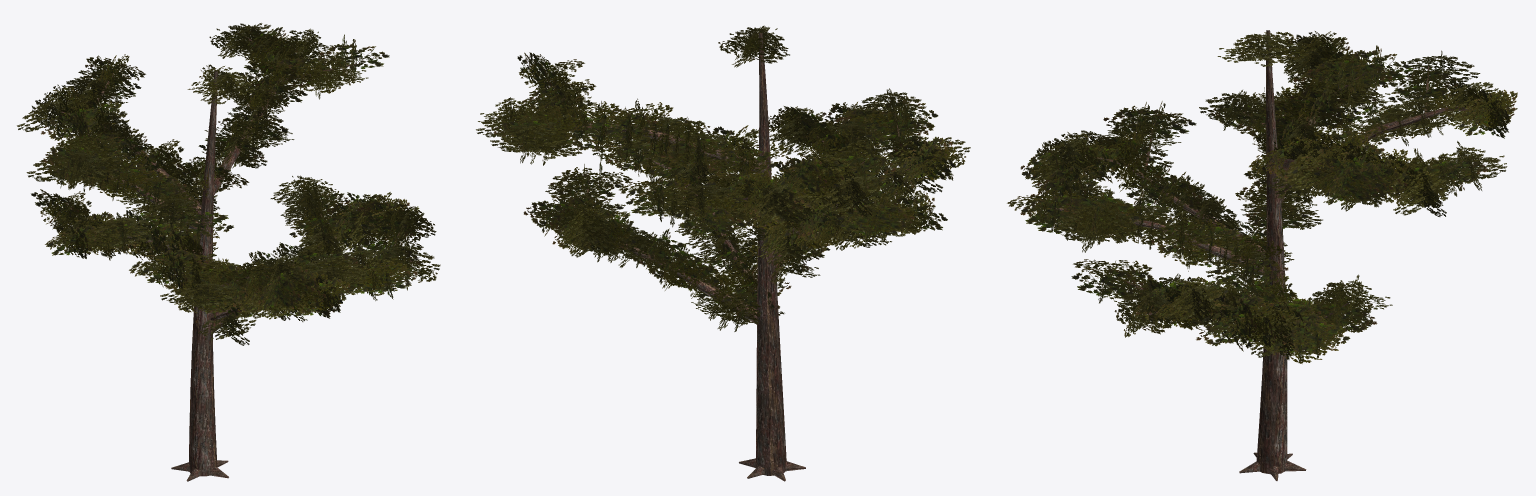
The model's file is tree_3d_04_lod0.glb.
The picture shows the model from 3 angles, left to right: view 1: azimuth 30°, elevation 25°; view 2: azimuth 150°, elevation 25°; view 3: azimuth 270°, elevation 25°; orthographic projection. The views are drawn at different scales.
Parts seen in each view (by area): view 1: foliage_cards, wood_geometry; view 2: foliage_cards, wood_geometry; view 3: foliage_cards, wood_geometry.
Boxes of the visible parts, x1=… form: foliage_cards: x1=17, y1=23, x2=440, y2=345; wood_geometry: x1=61, y1=34, x2=411, y2=481; foliage_cards: x1=476, y1=25, x2=970, y2=331; wood_geometry: x1=534, y1=33, x2=926, y2=481; foliage_cards: x1=1007, y1=31, x2=1517, y2=363; wood_geometry: x1=1051, y1=30, x2=1492, y2=480.
Bounding box in the file's own units: 8.14 × 8.31 × 8.74.
Materials: 2 (2 with a texture image).
